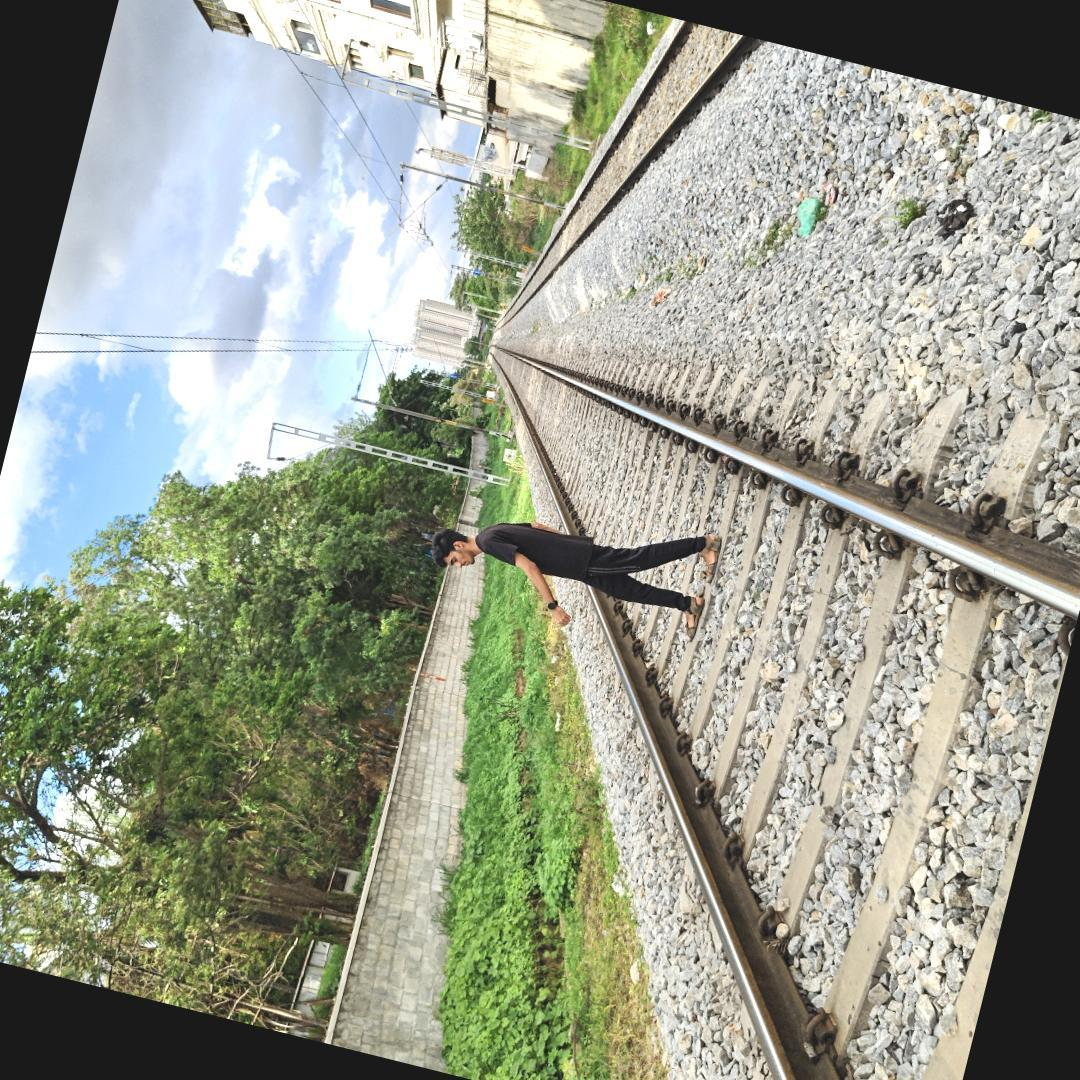standing: (420, 512, 730, 642)
